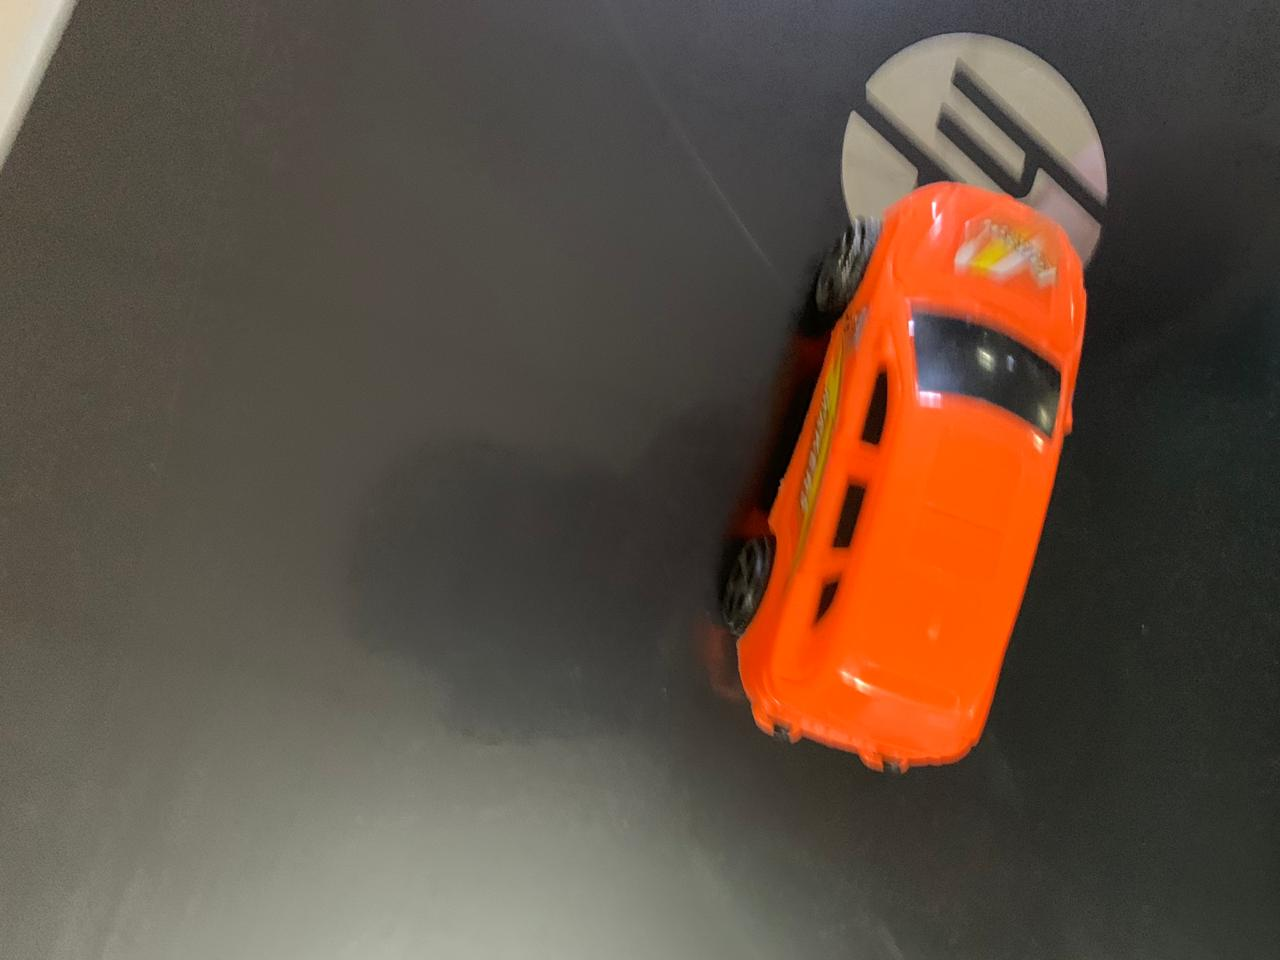car: (720, 140, 1096, 803)
